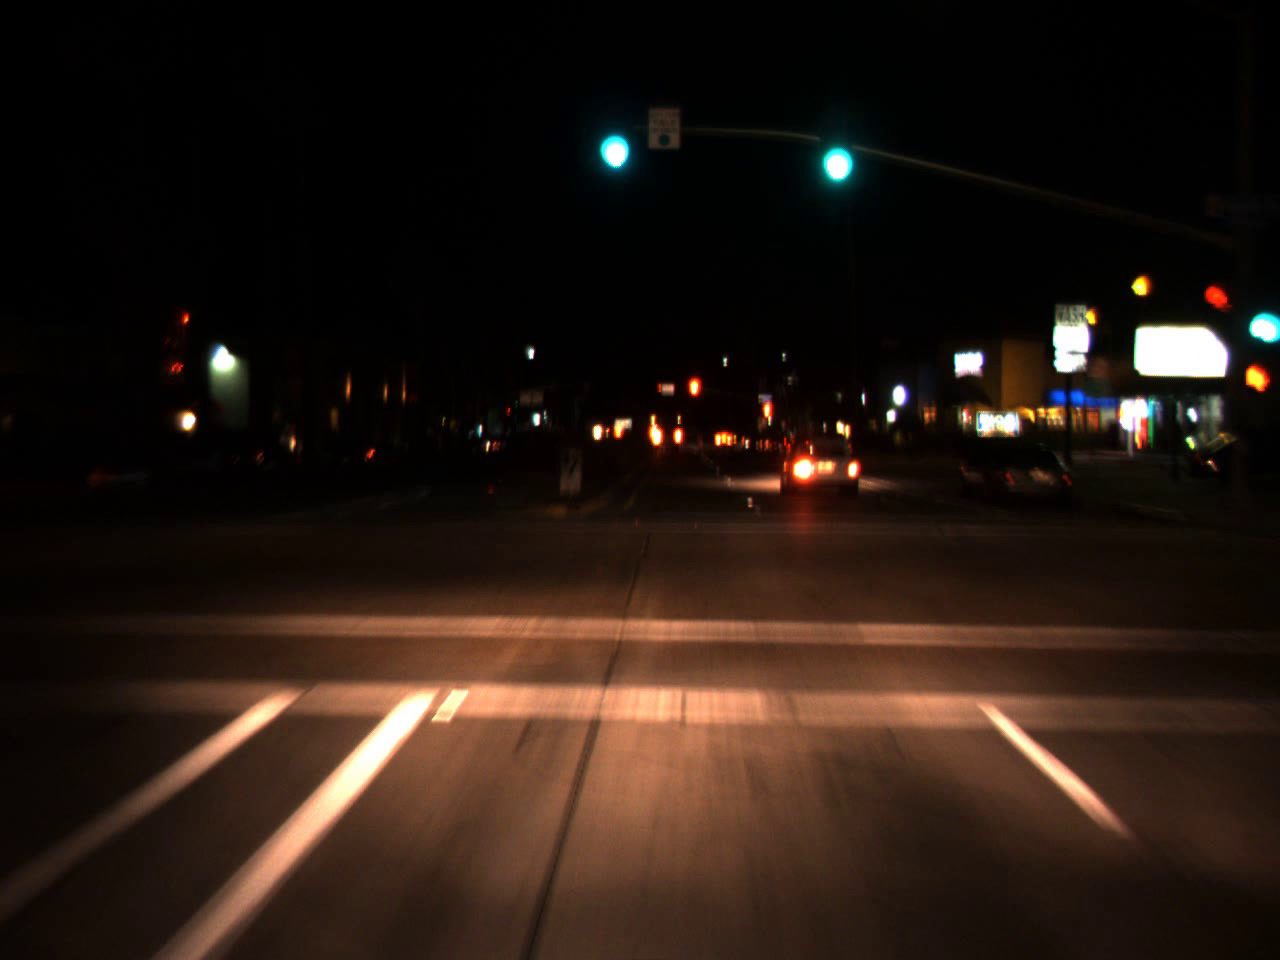go: (810, 108, 856, 195), (590, 102, 635, 179), (1243, 288, 1277, 345)
stop: (686, 373, 702, 421), (759, 399, 775, 442)
